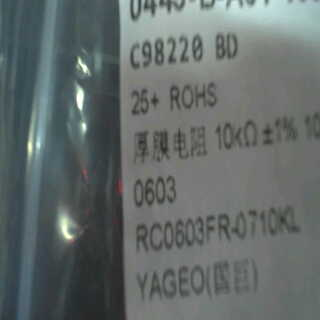10kR: (211, 116, 262, 153)
